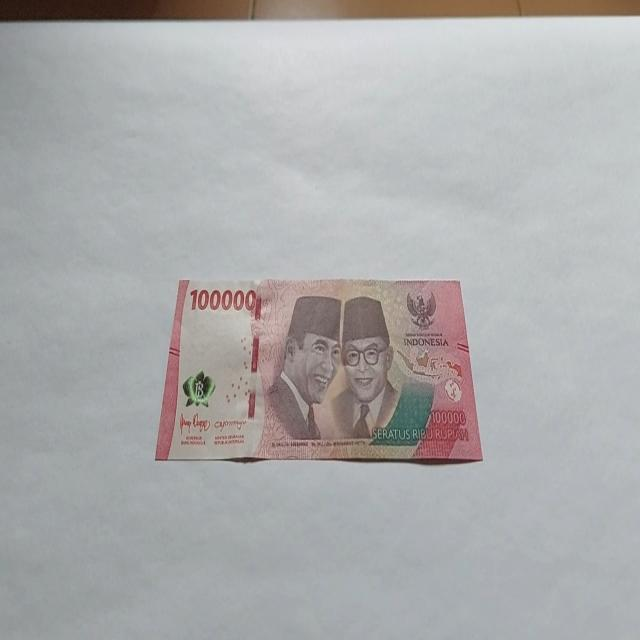seratus ribu rupiah: (154, 275, 483, 465)
